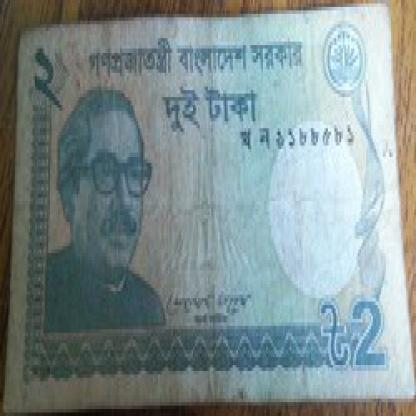two taka: (25, 42, 83, 111), (344, 291, 390, 378)
